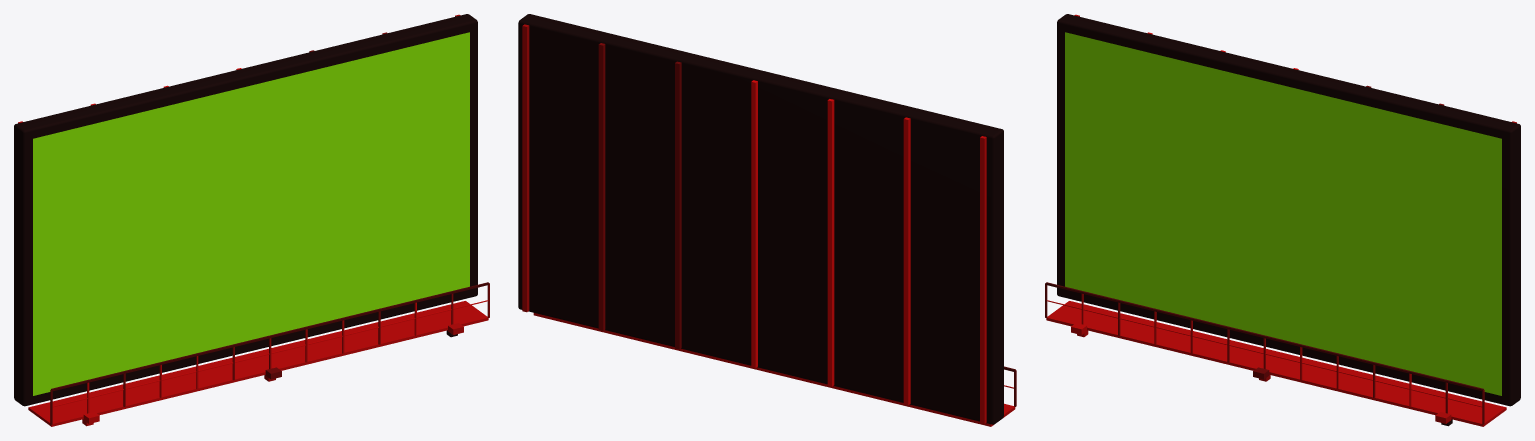
Rendered from screen_wall.glb.
The picture shows the model from 3 angles, left to right: view 1: azimuth 30°, elevation 25°; view 2: azimuth 150°, elevation 25°; view 3: azimuth 330°, elevation 25°; orthographic projection. The views are drawn at different scales.
Visible parts, largest first — view 1: screen_wall; view 2: screen_wall; view 3: screen_wall.
Part boxes in pixels (x1,y1,x2,y2): screen_wall: [14, 14, 489, 426]; screen_wall: [518, 14, 1016, 426]; screen_wall: [1045, 14, 1520, 426].
Bounding box in the file's own units: 12.5 × 7.6 × 1.8.
